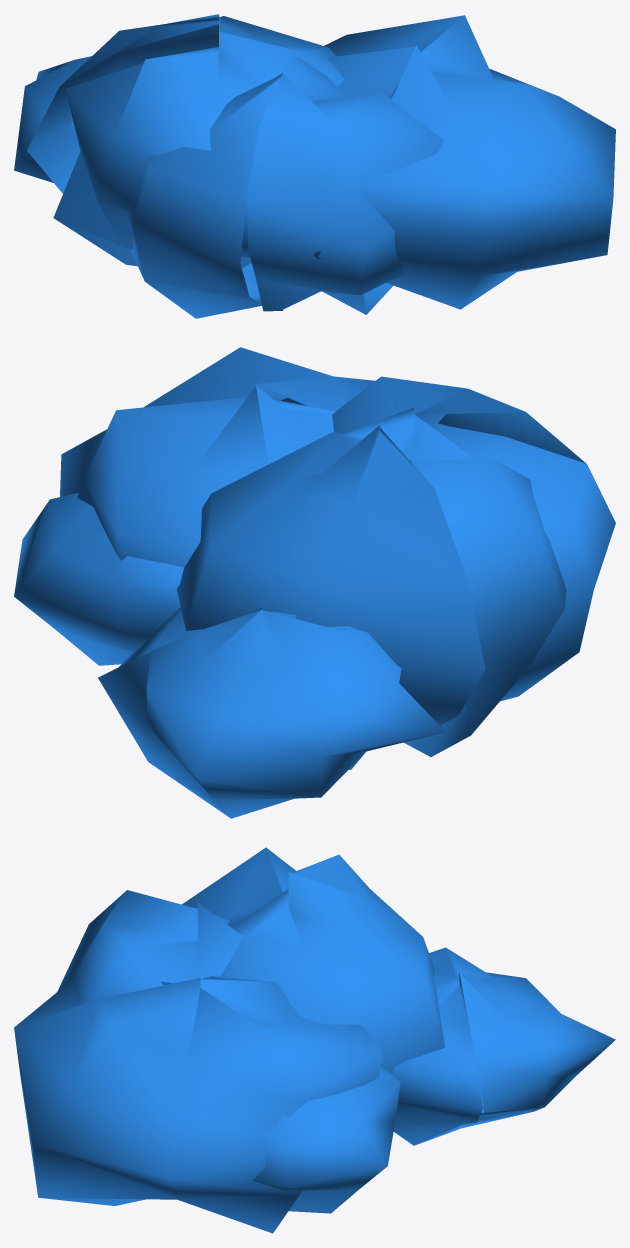
The model's file is deraumere.obj.
The picture shows the model from 3 angles, top to bottom: view 1: azimuth 30°, elevation 25°; view 2: azimuth 150°, elevation 25°; view 3: azimuth 270°, elevation 25°; orthographic projection. The views are drawn at different scales.
Visible parts, largest first — view 1: deraumere_deposit; view 2: deraumere_deposit; view 3: deraumere_deposit.
Boxes of the visible parts, box(x1,y1,x2,y2) form: deraumere_deposit: box(14, 14, 615, 318); deraumere_deposit: box(14, 347, 615, 818); deraumere_deposit: box(14, 847, 615, 1233).
Size of the model in its own units: 1.01 by 0.5432 by 1.14.
